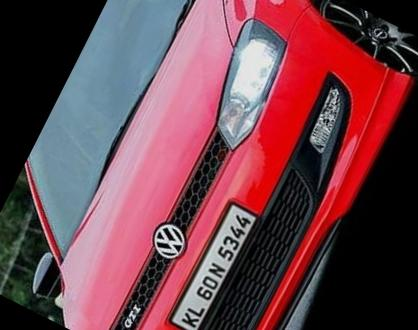plate: (162, 190, 267, 330)
